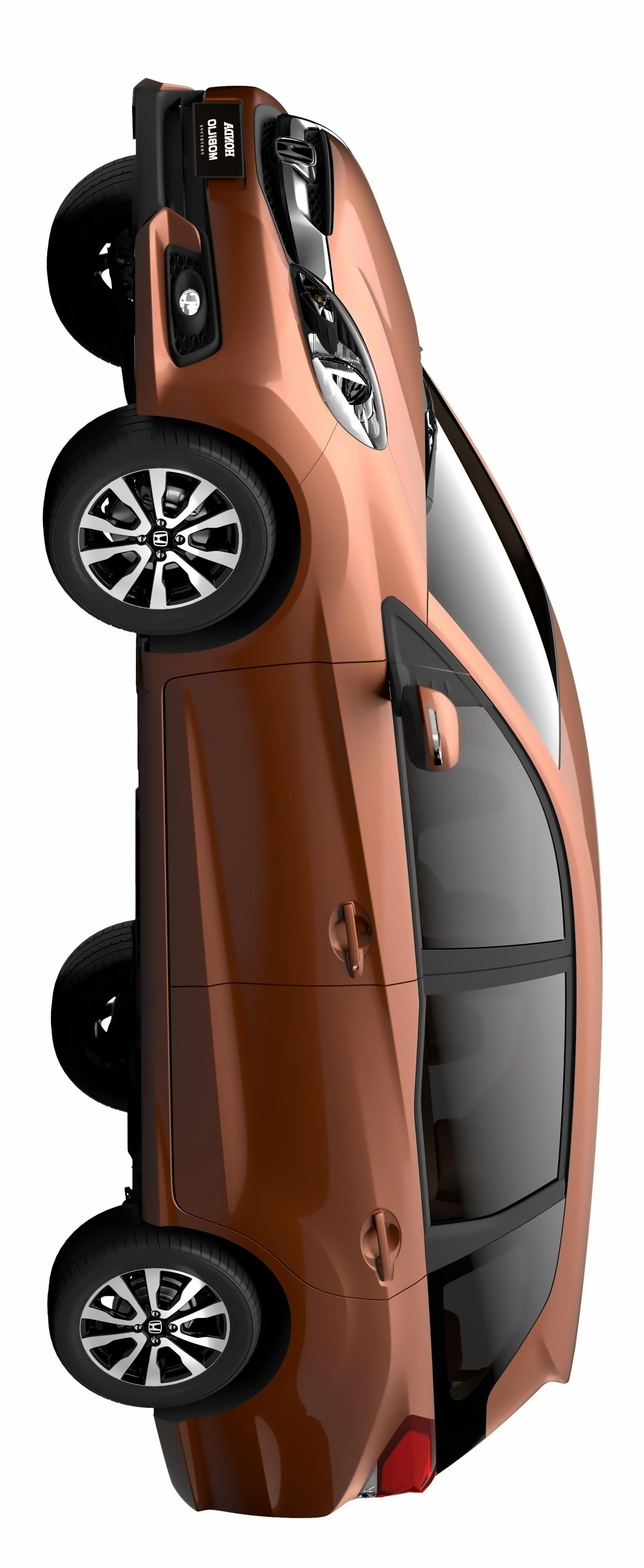Car hood: (318, 127, 437, 590)
Fender - -F-L-: (132, 416, 437, 682)
Fender - -R-L-: (142, 1210, 442, 1429)
Front bumper: (119, 69, 335, 491)
Headlight - -L-: (276, 257, 395, 460)
Passenger-s door - -F-L-: (153, 657, 583, 985)
Passenger-s door - -R-L-: (155, 982, 585, 1307)
Rear bumper: (140, 1398, 381, 1530)
Rear light - -L-: (344, 1407, 448, 1514)
Side bumper - -L-: (126, 636, 187, 1242)
Side mirror - -L-: (386, 676, 467, 787)
